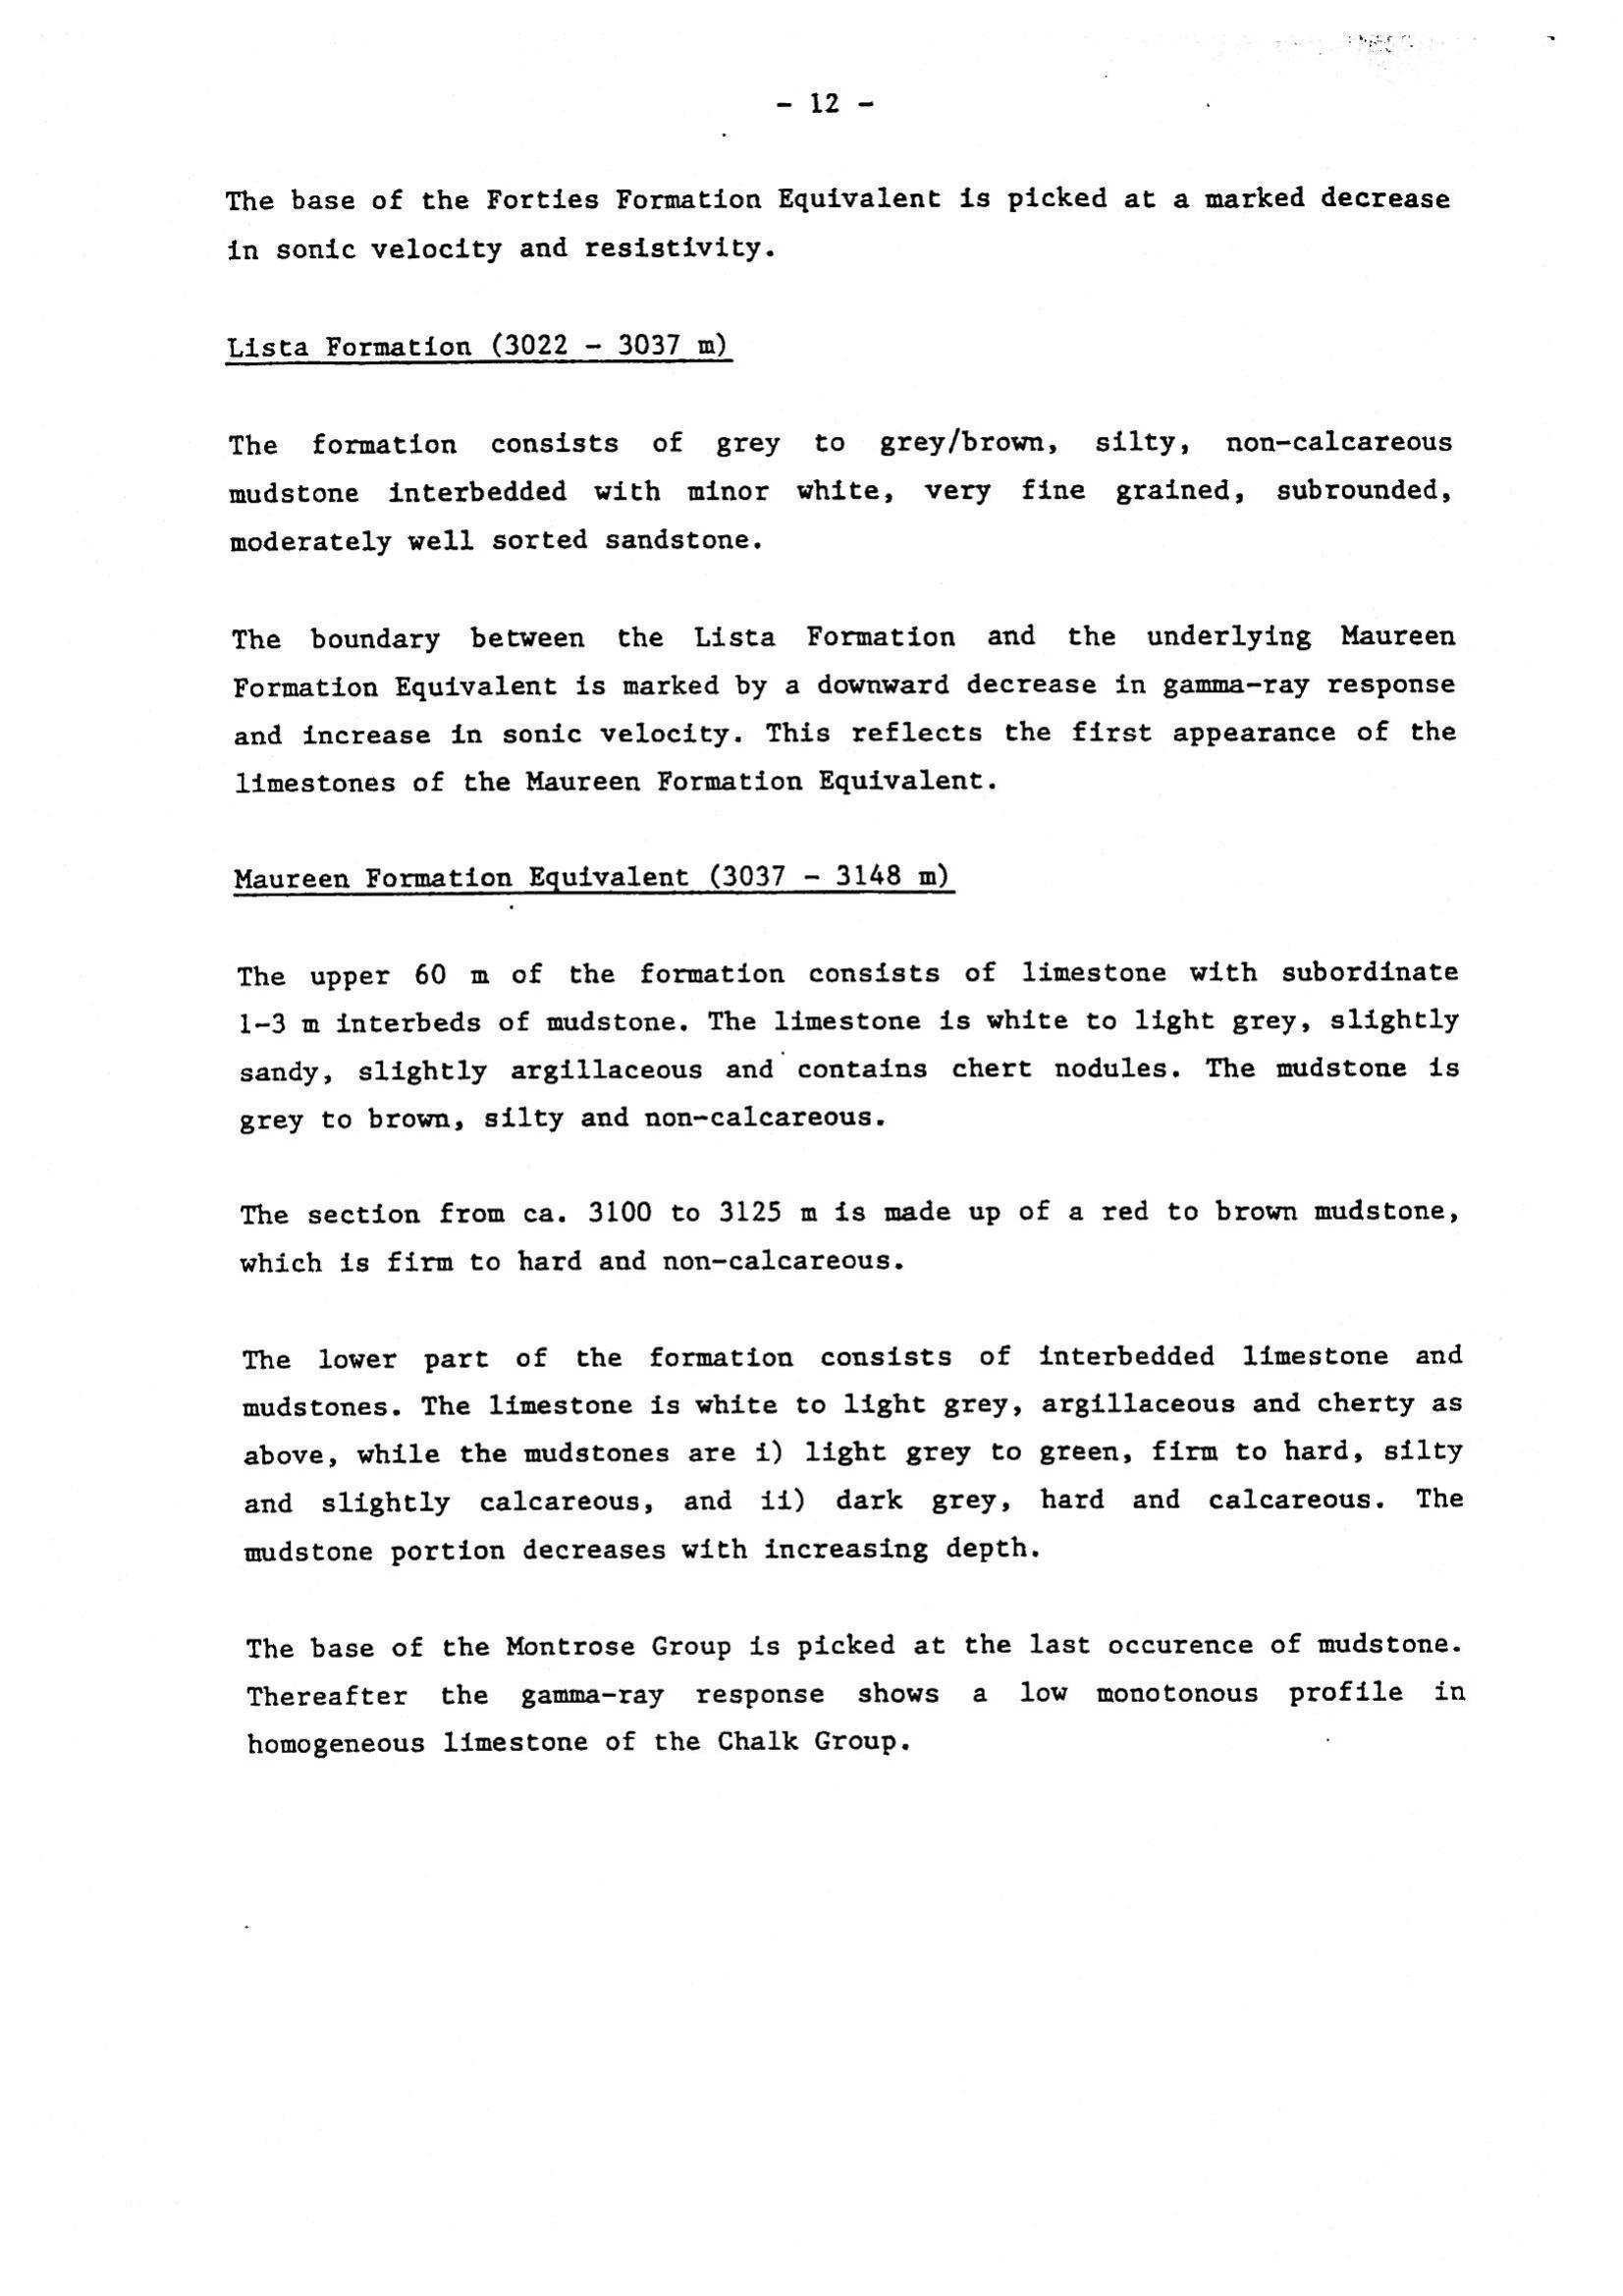text: (207, 156, 1502, 1795)
